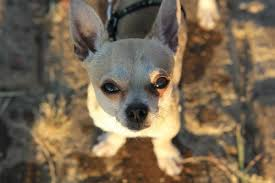chihuahua: (56, 3, 211, 178)
